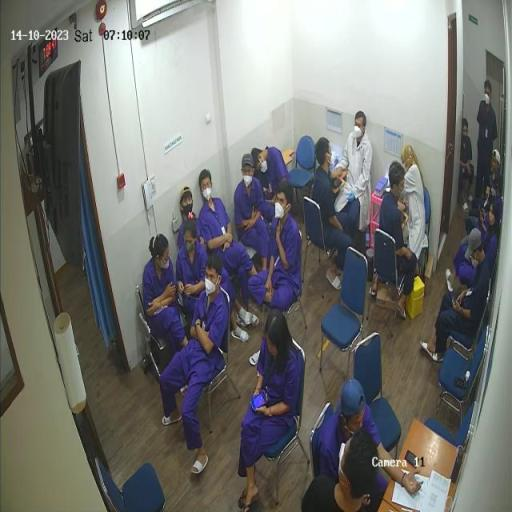person: (160, 256, 230, 476), (318, 380, 424, 507), (238, 309, 303, 512), (179, 187, 253, 344), (200, 170, 260, 327), (421, 229, 491, 363), (143, 235, 190, 398), (371, 162, 419, 320), (248, 182, 303, 314), (303, 429, 380, 512), (313, 138, 353, 291), (333, 111, 373, 236), (448, 200, 501, 293), (234, 155, 270, 272), (177, 213, 209, 318), (402, 145, 429, 264), (462, 171, 502, 248), (252, 147, 292, 224), (476, 81, 499, 201), (470, 150, 502, 219), (460, 119, 475, 213)
